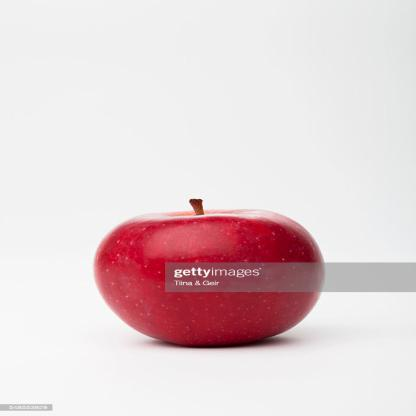Apple: (98, 197, 346, 347)
